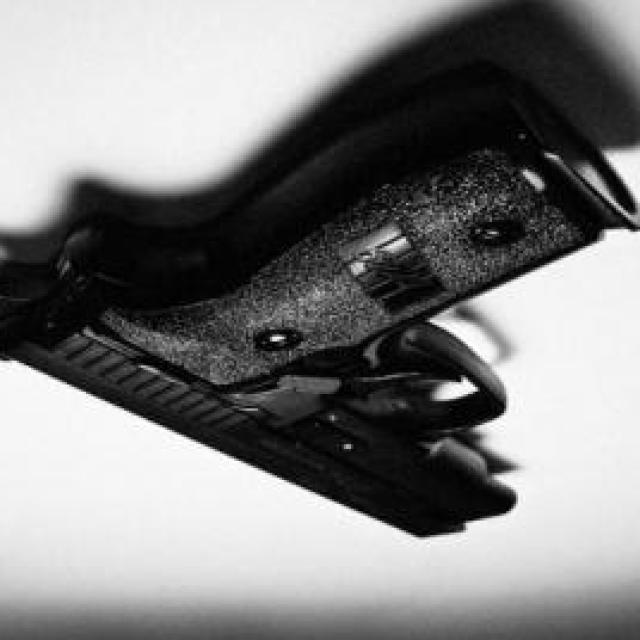pistol: (0, 64, 640, 540)
